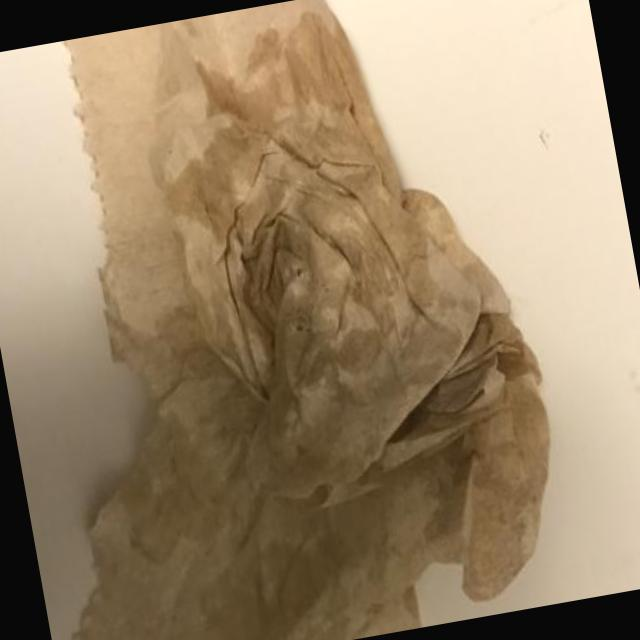giay: (65, 0, 549, 640)
